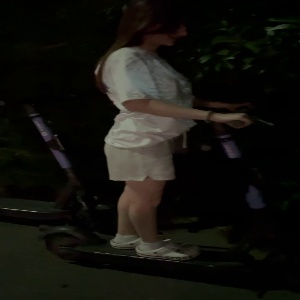human on a scooter: (37, 1, 300, 289)
